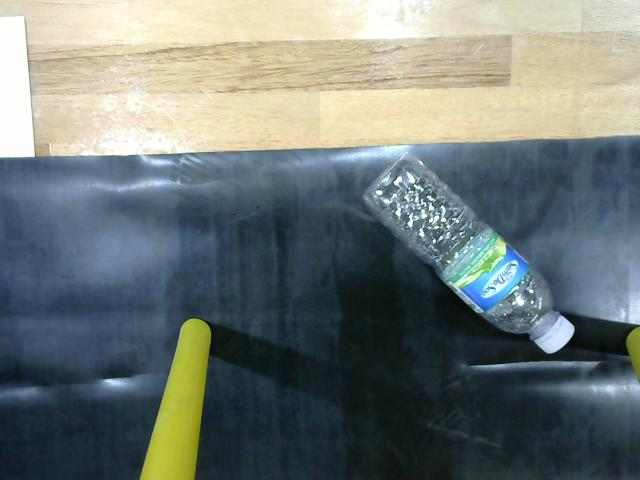bottle: (356, 146, 586, 361)
